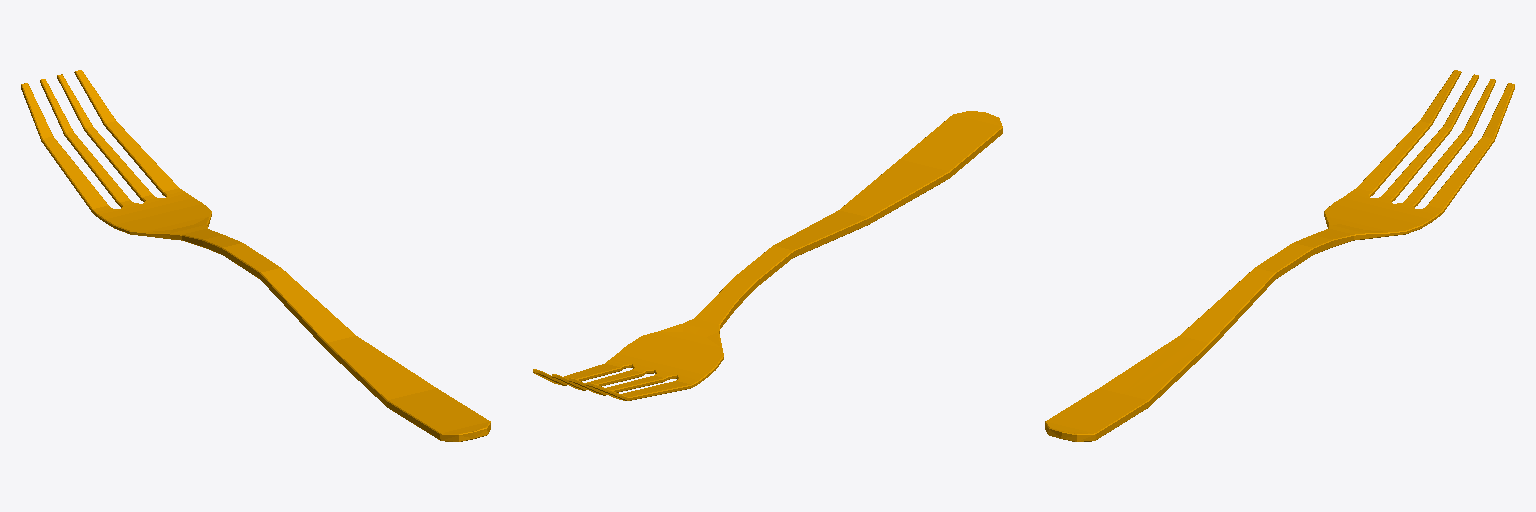
The robot description file, URDF, robot "apple":
<?xml version="0.0" ?>
<robot name="apple">
  <link name="baseLink">
    <contact>
      <lateral_friction value="1.0"/>
      <rolling_friction value="0.0"/>
      <contact_cfm value="0.0"/>
      <contact_erp value="1.0"/>
    </contact>
    <inertial>
      <origin rpy="1.57 0 0" xyz="0.0 0.0 0.0"/>
       <mass value=".1"/>
       <inertia ixx="1" ixy="0" ixz="0" iyy="1" iyz="0" izz="1"/>
    </inertial>
    <visual>
      <origin rpy="1.57 0 0" xyz="0 0 0"/>
      <geometry>
        <mesh filename="meshes/notextures/fork3.obj" scale="0.01 0.01 0.01"/>
      </geometry>

    </visual>
    <collision>
      <origin rpy="1.57 0 0" xyz="0 0 0"/>
      <geometry>
	 	<mesh filename="meshes/notextures/fork3.obj" scale="0.01 0.01 0.01"/>
      </geometry>
    </collision>
  </link>
</robot>

--- What the picture shows (computed from the rendered views, not written in the file) ---
Views: 3 orthographic renders of the robot side by side, from view 1: azimuth 30°, elevation 25°; view 2: azimuth 150°, elevation 25°; view 3: azimuth 330°, elevation 25°.
Robot: apple — 1 links, 0 joints (none); root link baseLink; default pose: all joints at 0.
Links seen in each view (by area): view 1: baseLink; view 2: baseLink; view 3: baseLink.
Boxes of the visible links, box(x1,y1,x2,y2) form: baseLink: box(21, 70, 490, 441); baseLink: box(533, 111, 1002, 400); baseLink: box(1045, 70, 1514, 441).
Bounding box of the posed robot: 0.0246 × 0.2008 × 0.0167 m (x, y, z).
1 mesh visuals loaded from 1 distinct referenced files (1 OBJ).